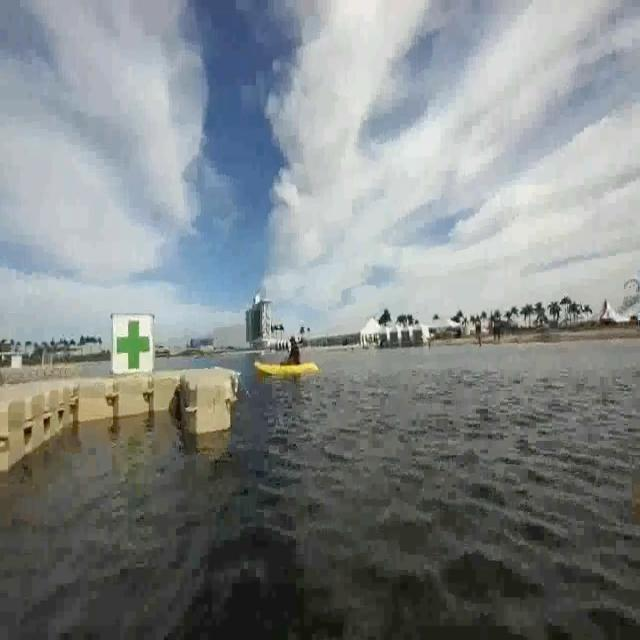blue-cross: (112, 313, 155, 375)
